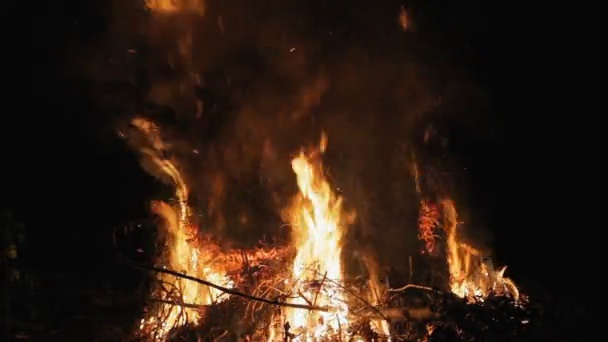fire: (268, 153, 349, 342), (143, 192, 231, 335), (442, 239, 517, 304), (363, 283, 389, 338)
